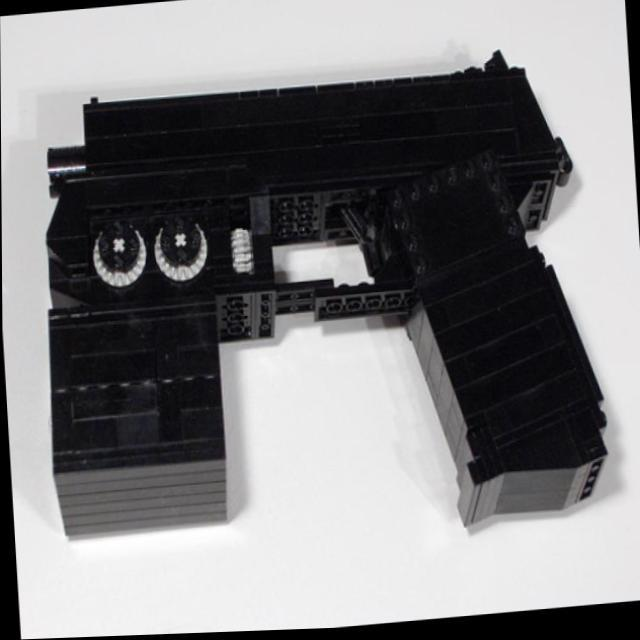weapon: (28, 46, 612, 562)
